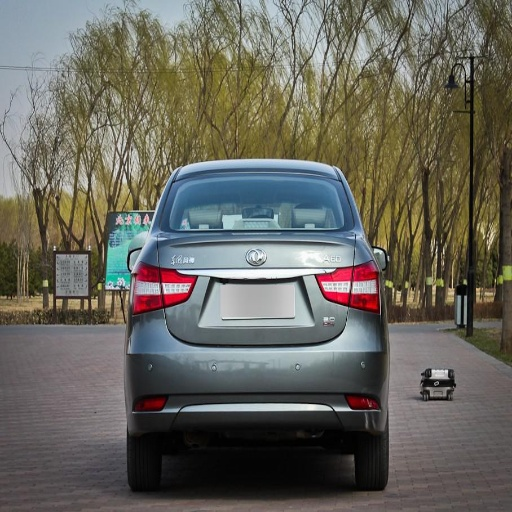back_bumper: (126, 307, 391, 440)
tailgate: (135, 231, 356, 345)
